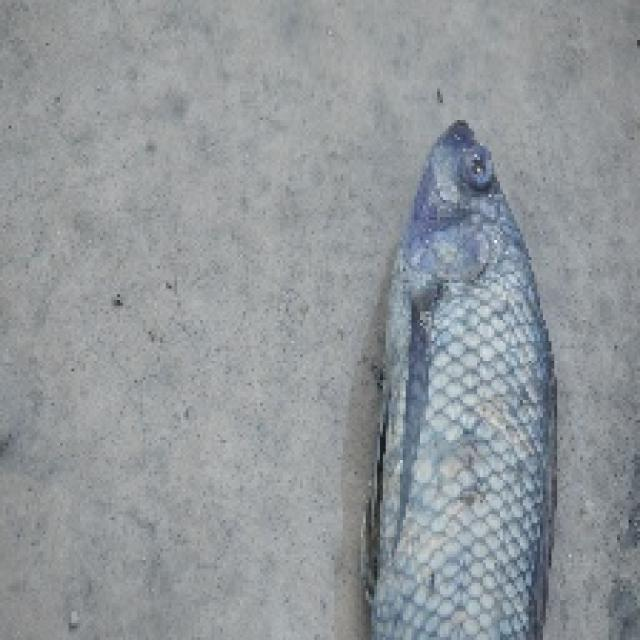Non-Fresh: (343, 105, 589, 640)
